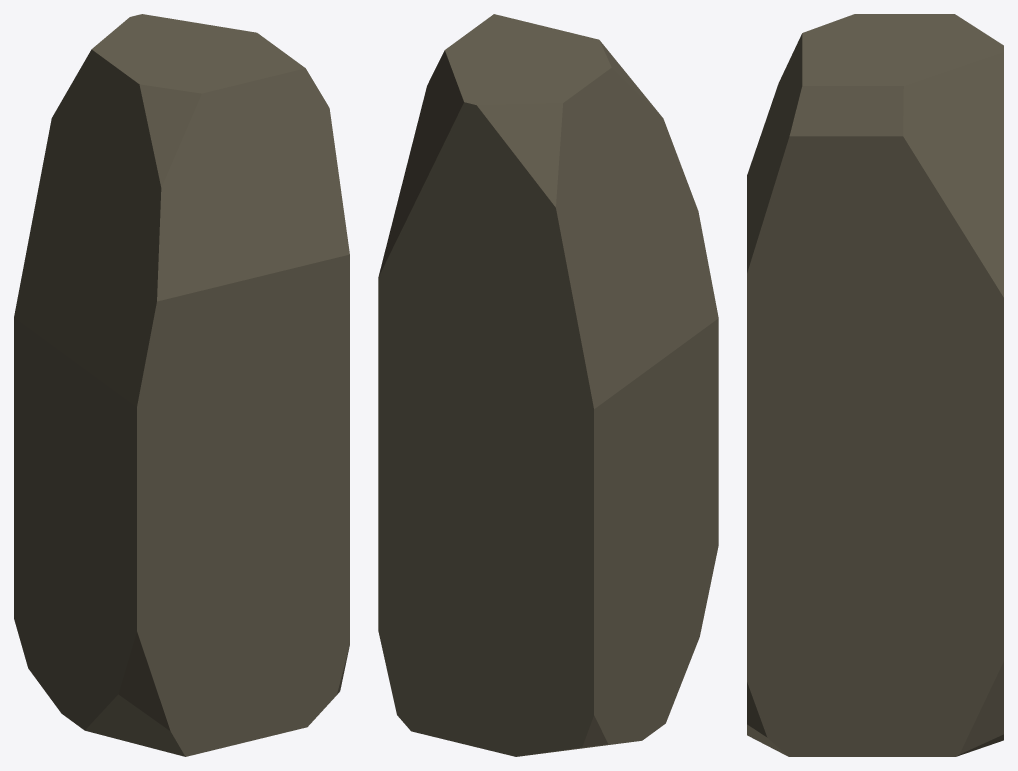
File: Rock_15.fbx
The picture shows the model from 3 angles, left to right: view 1: azimuth 30°, elevation 25°; view 2: azimuth 150°, elevation 25°; view 3: azimuth 270°, elevation 25°; orthographic projection. The views are drawn at different scales.
Parts seen in each view (by area): view 1: Rock_15_LOD0; view 2: Rock_15_LOD0; view 3: Rock_15_LOD0.
Part boxes in pixels (bbox=[...]): Rock_15_LOD0: bbox=[14, 14, 349, 756]; Rock_15_LOD0: bbox=[378, 14, 718, 756]; Rock_15_LOD0: bbox=[747, 14, 1003, 756].
Size of what is drawn, in the model's own units: 0.7548 by 2.15 by 0.7548.
